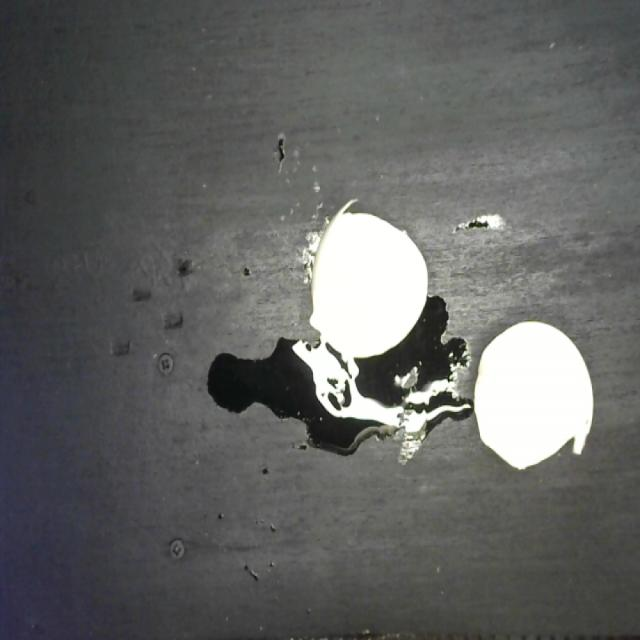biodegradable: (305, 191, 595, 476)
